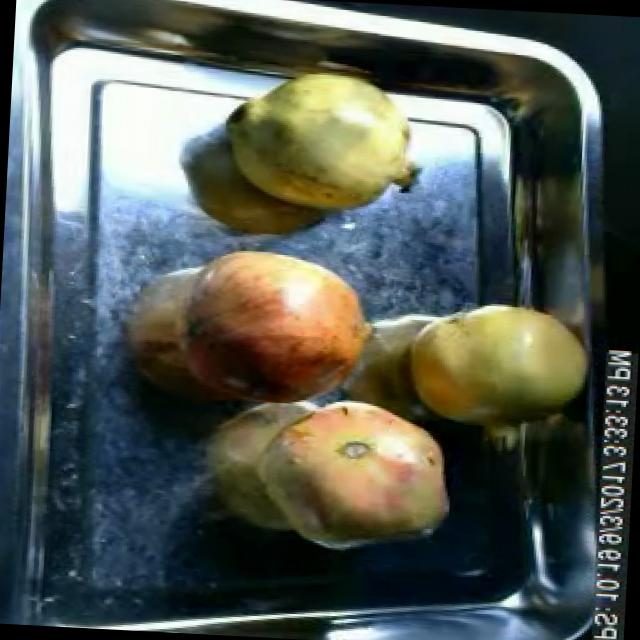fruit: (154, 232, 386, 423), (238, 380, 465, 562), (212, 54, 428, 225), (392, 290, 596, 444)
